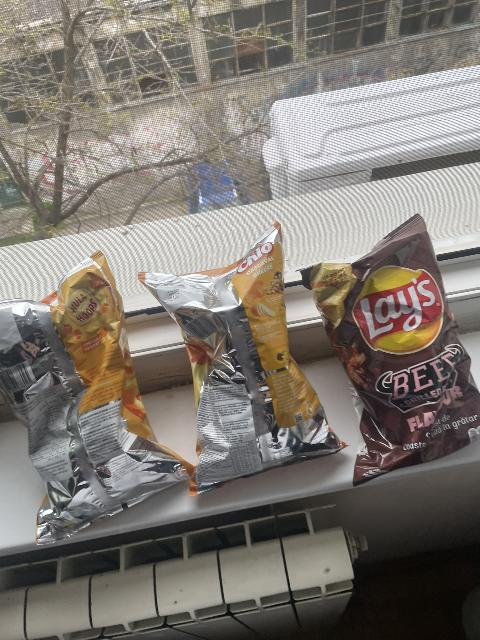Chio Cascaval 125g: (136, 222, 349, 497)
Chio Hula Hoops Cheese 70g: (0, 249, 196, 545)
Lays Beef Grilled Ribs 125g: (293, 213, 480, 488)
